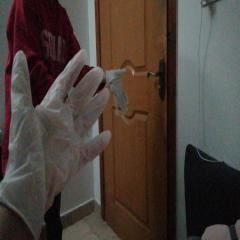gloved: (1, 50, 109, 240), (106, 66, 129, 114)
